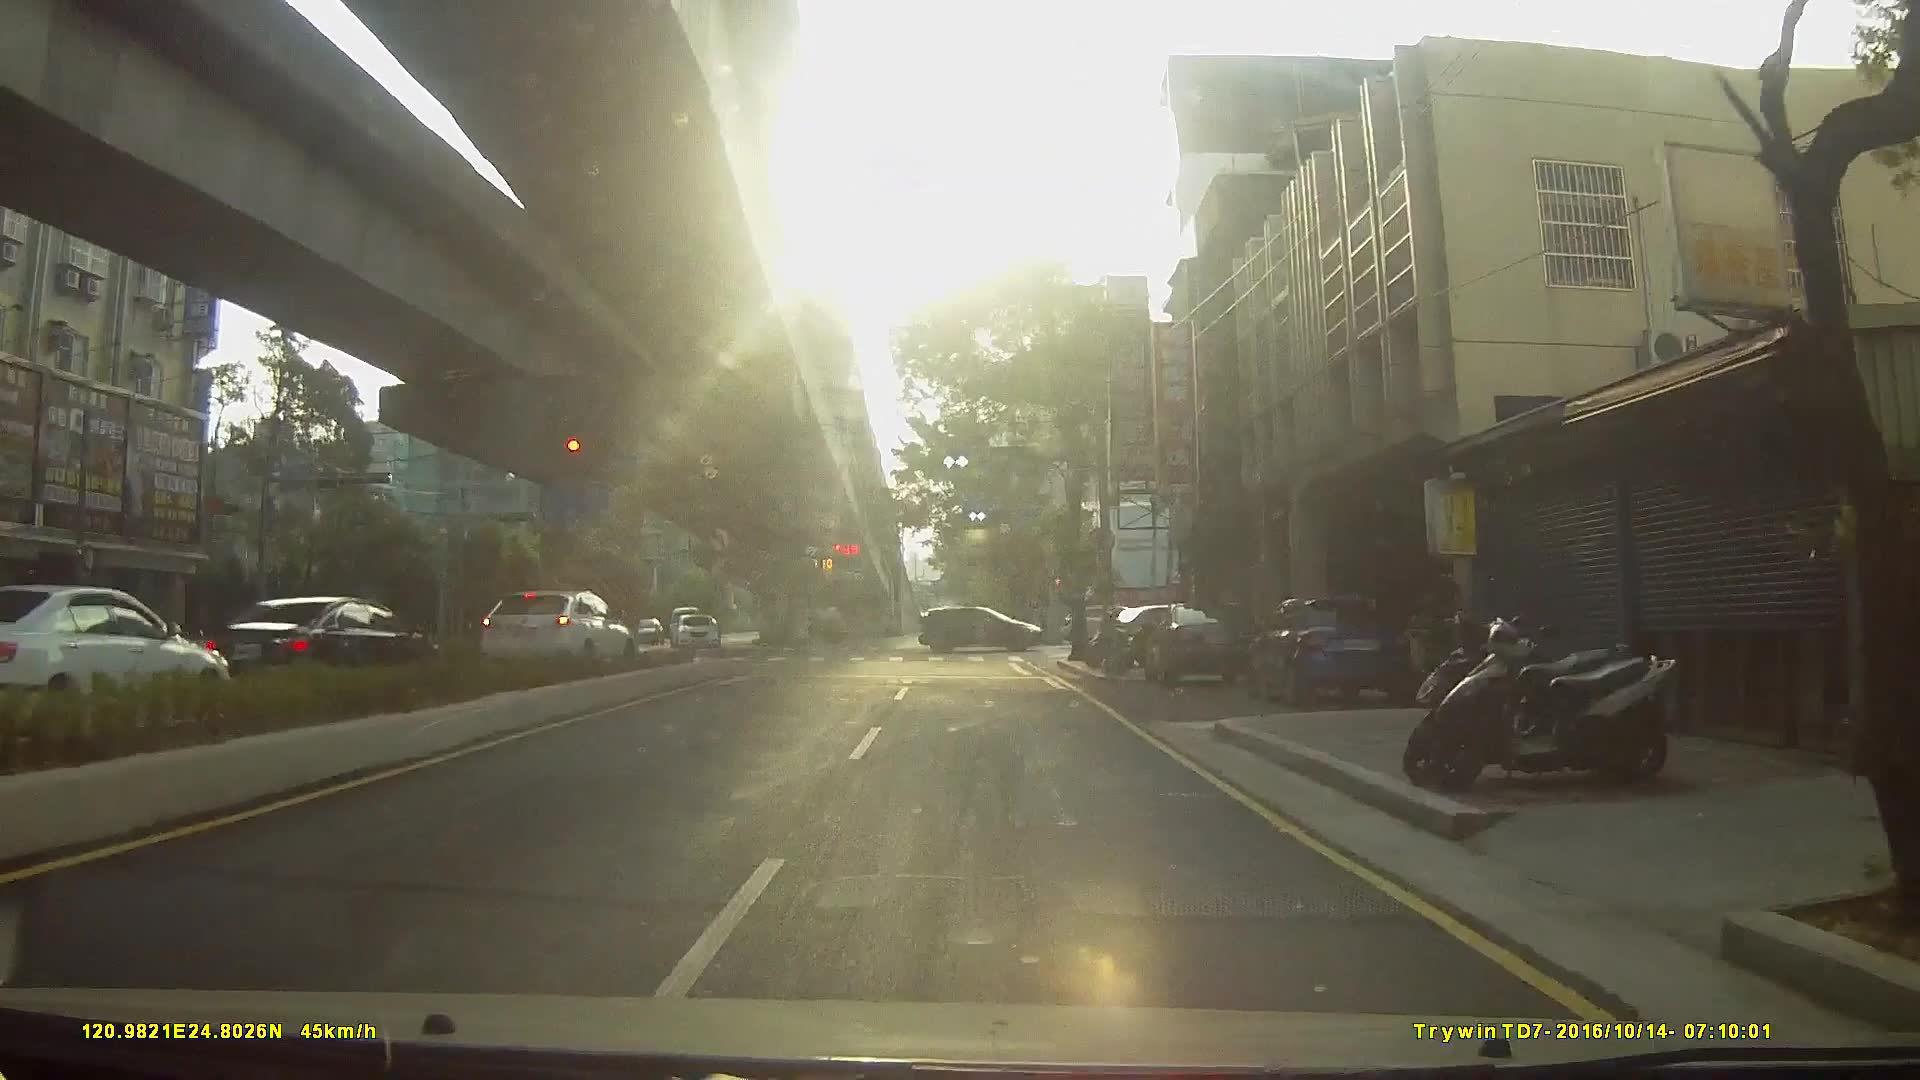vehicle: (1, 584, 232, 737), (193, 597, 442, 700), (1253, 593, 1424, 711), (469, 589, 630, 671), (1143, 597, 1262, 684), (919, 605, 1046, 654), (671, 612, 717, 651), (622, 618, 663, 646)
